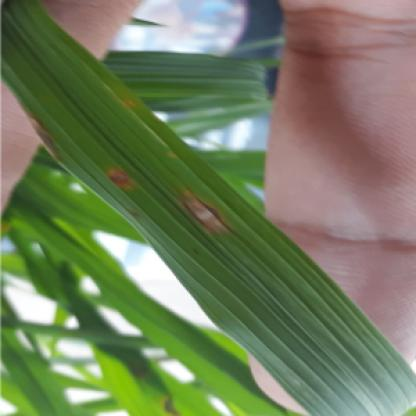Rice blast: (177, 197, 224, 245), (104, 166, 131, 194)
